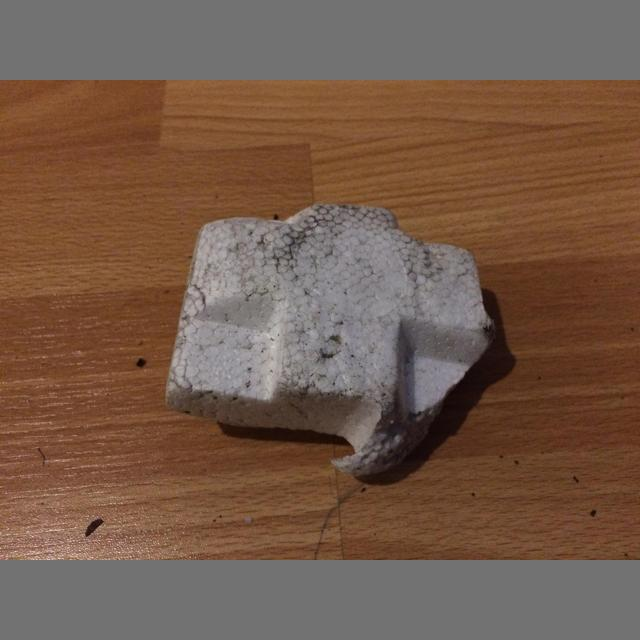litter: (166, 205, 494, 476)
